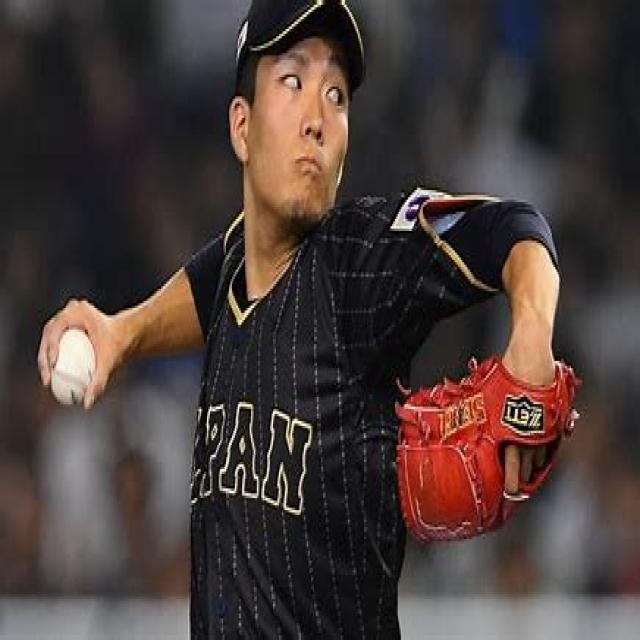ball: (44, 325, 100, 410)
glove: (394, 349, 586, 544)
